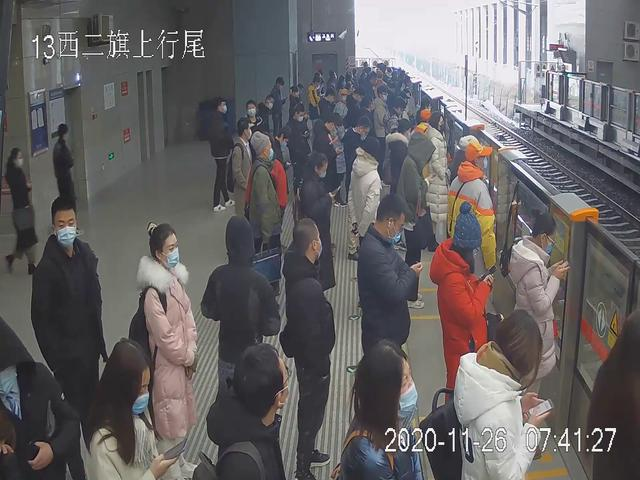person: (32, 194, 107, 458), (137, 220, 202, 479), (428, 202, 494, 427), (203, 216, 283, 391), (509, 211, 564, 459), (283, 215, 334, 480), (357, 193, 425, 391), (246, 130, 287, 300), (401, 132, 435, 312), (298, 150, 335, 308), (4, 146, 39, 274), (206, 96, 235, 215)
